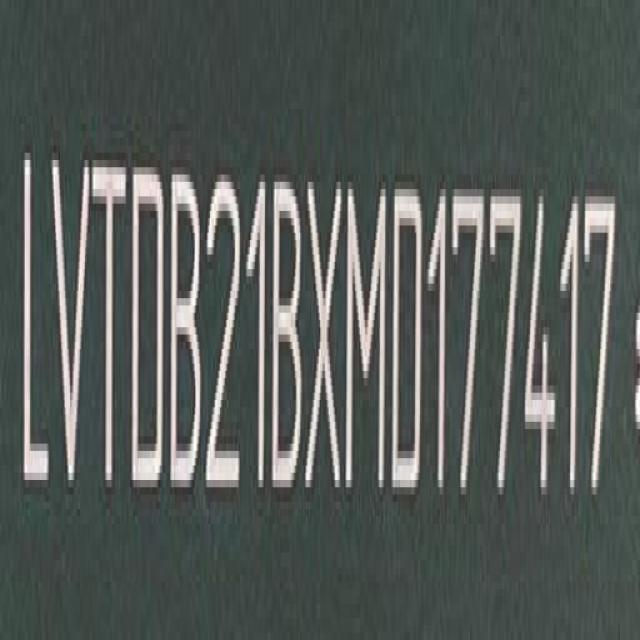1: (248, 174, 272, 497), (428, 184, 451, 507), (559, 187, 579, 514)
2: (208, 172, 244, 498)
4: (525, 182, 557, 515)
7: (490, 182, 522, 512), (584, 182, 616, 506), (456, 184, 486, 508)
B: (172, 170, 206, 498), (274, 173, 306, 495)
D: (128, 159, 166, 495), (393, 182, 427, 500)
L: (16, 146, 49, 503)
M: (346, 178, 387, 499)
T: (93, 151, 126, 497)
V: (48, 144, 91, 501)
X: (306, 175, 344, 493)
